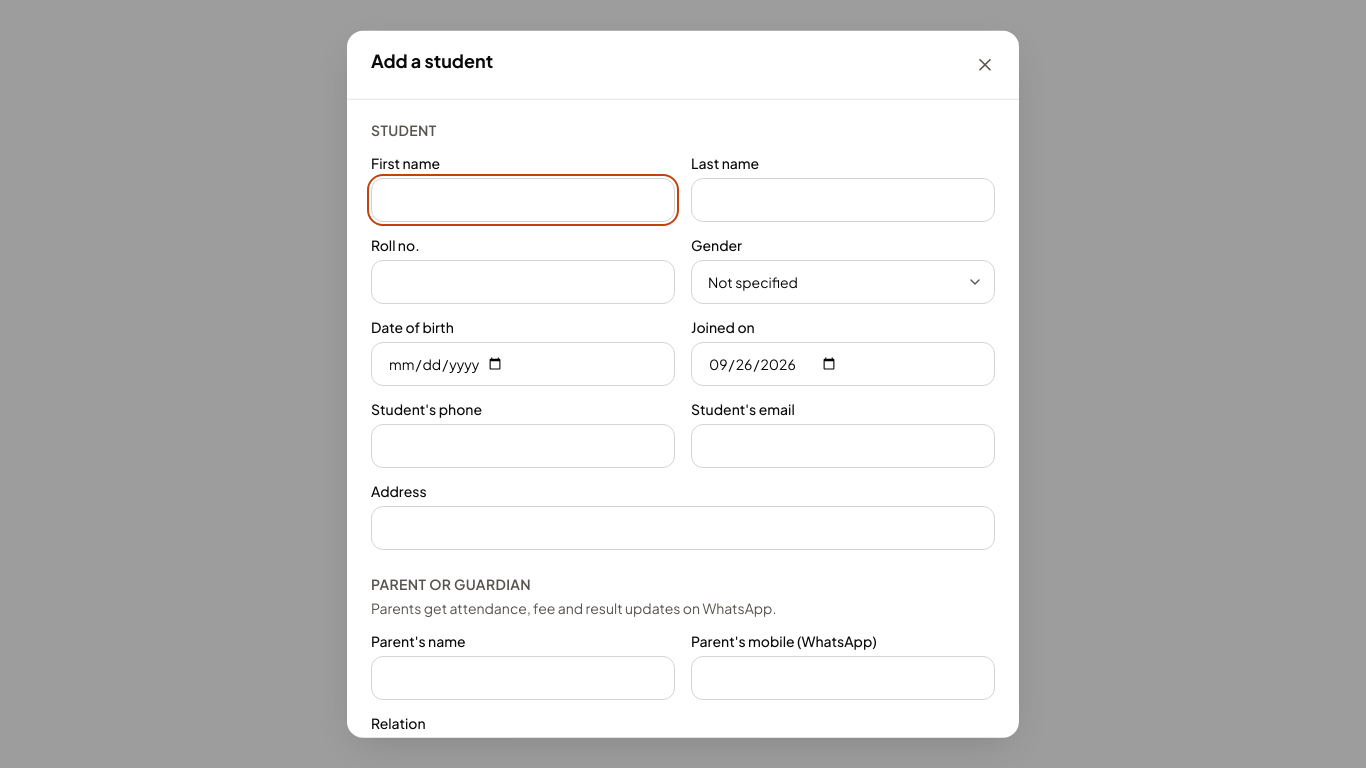
Test: StudentFormDialog › will not save half a parent
Type "Aarav" into the field labelled "First name".
click(523, 200); type("Aarav")  # box [371,178,675,222]
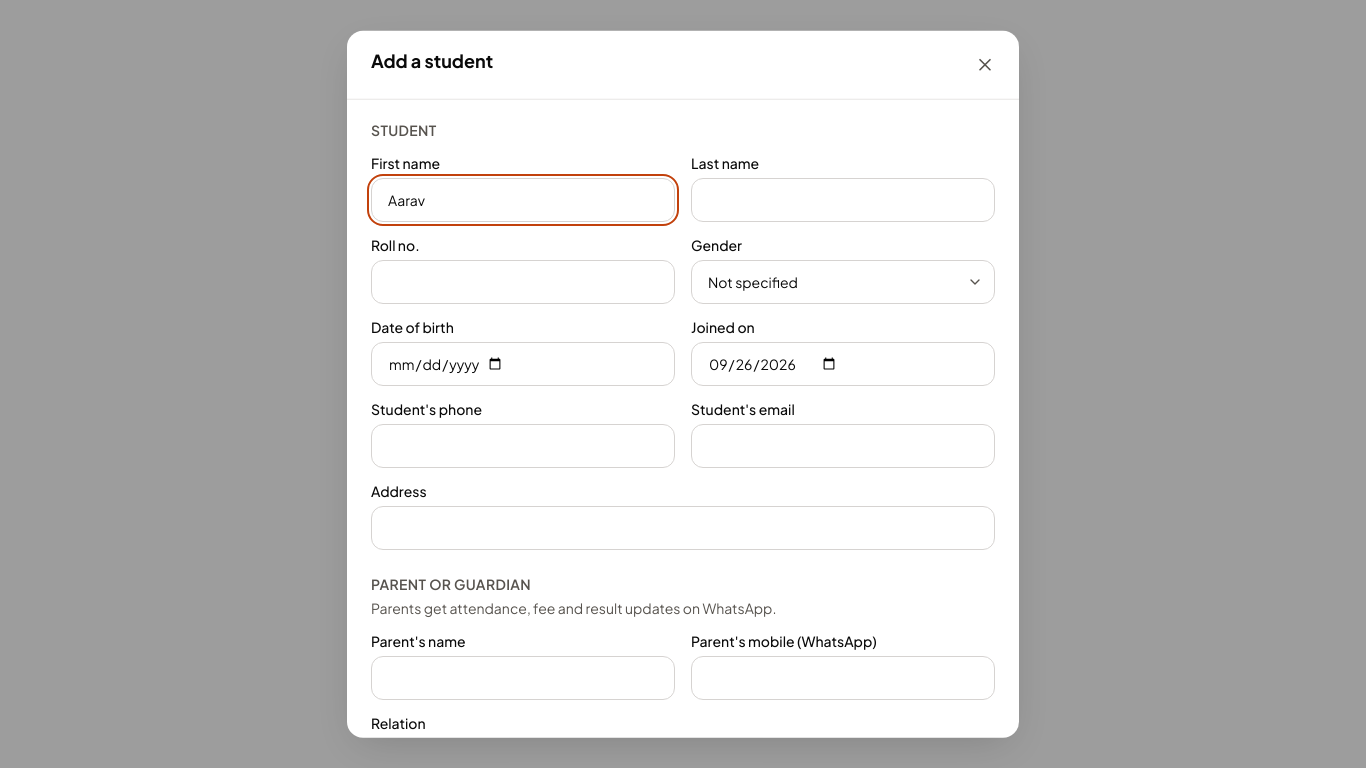
Type "Sharma" into the field labelled "Last name".
click(843, 200); type("Sharma")  # box [691,178,995,222]
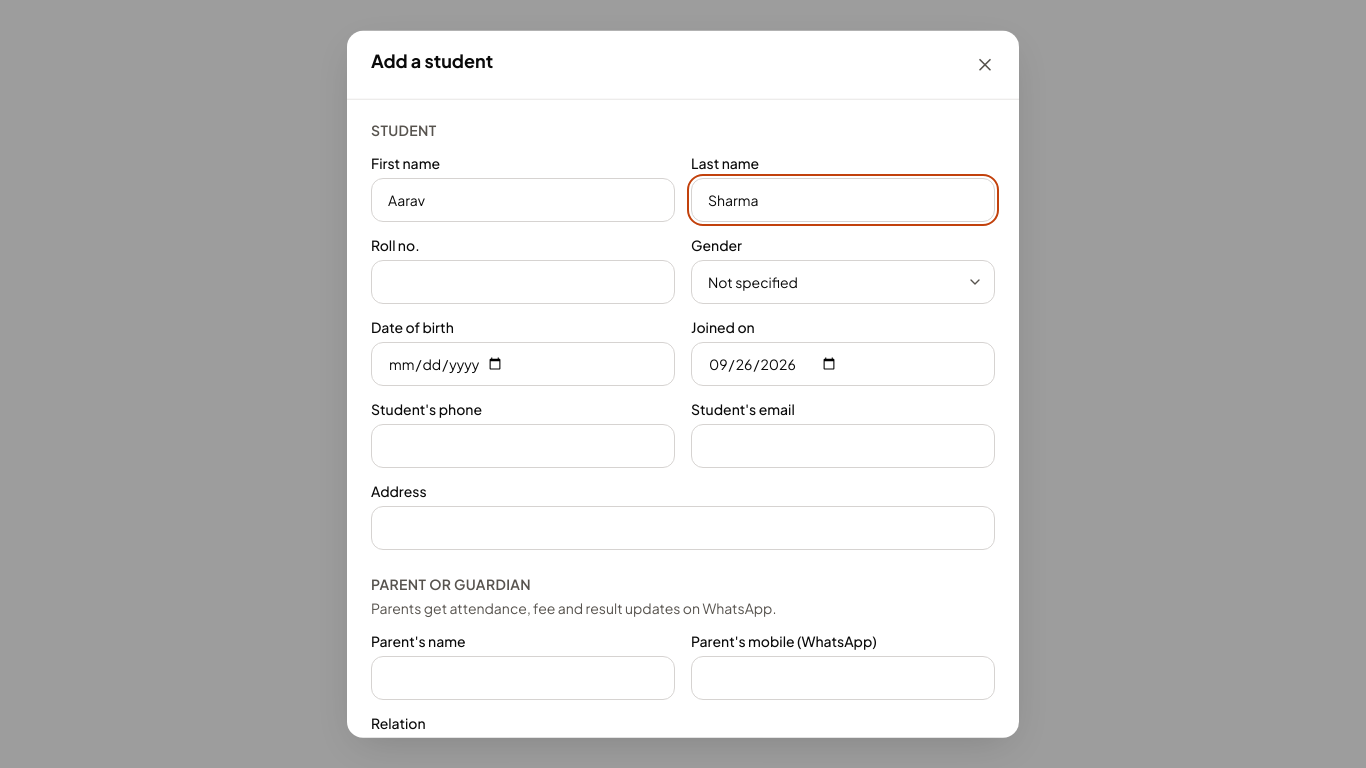
Type "Rakesh" into the field labelled "Parent's name".
click(523, 678); type("Rakesh")  # box [371,656,675,700]
(page scrolled)
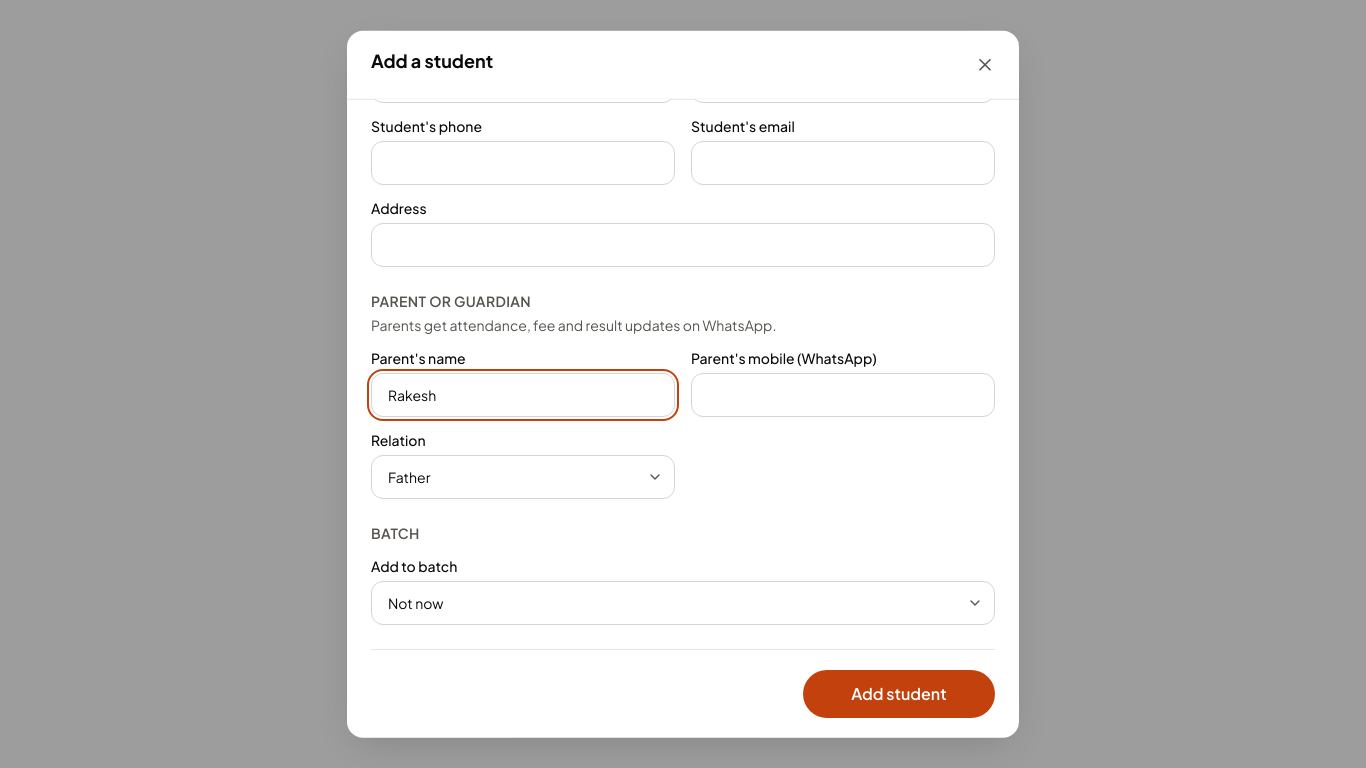
Click the button "Add student".
click(899, 694)  # box [803,670,995,718]
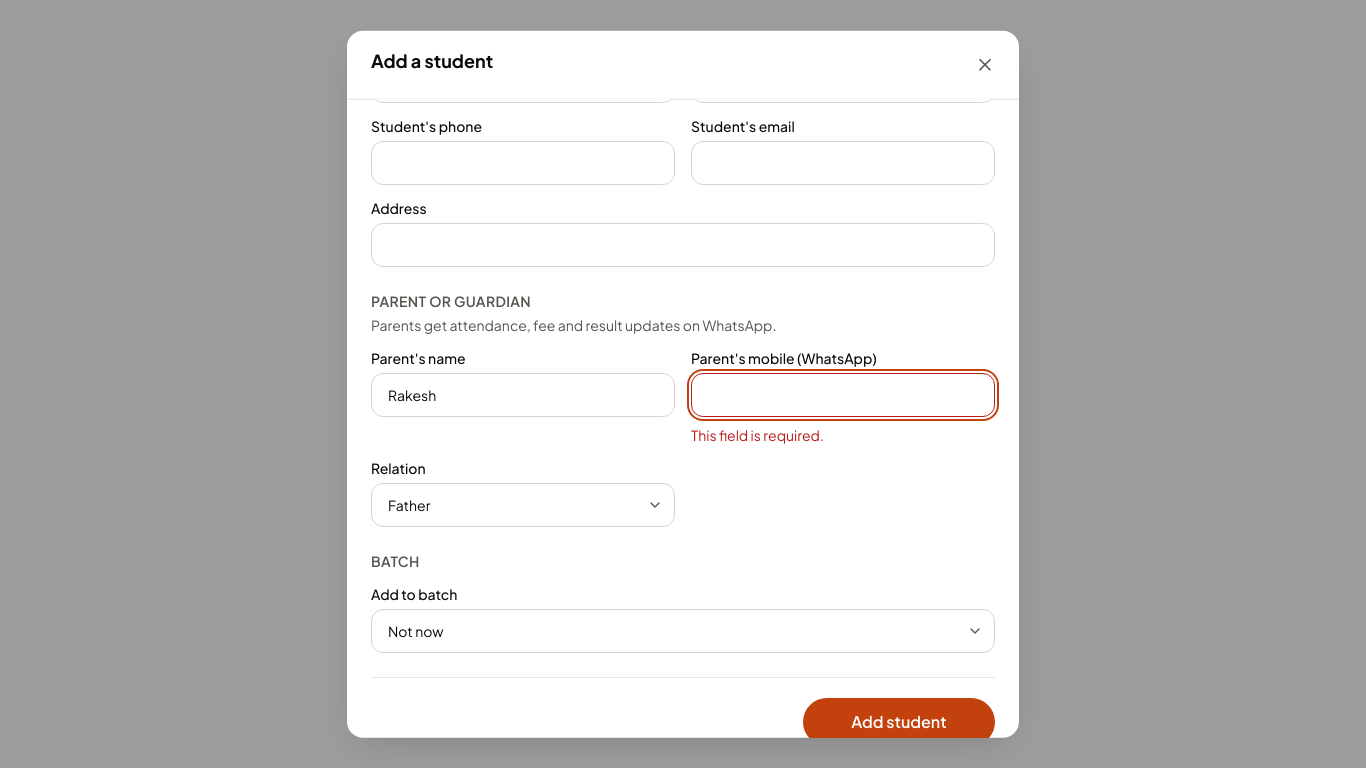
Now the text "This field is required." is shown, box [691,426,824,444]
